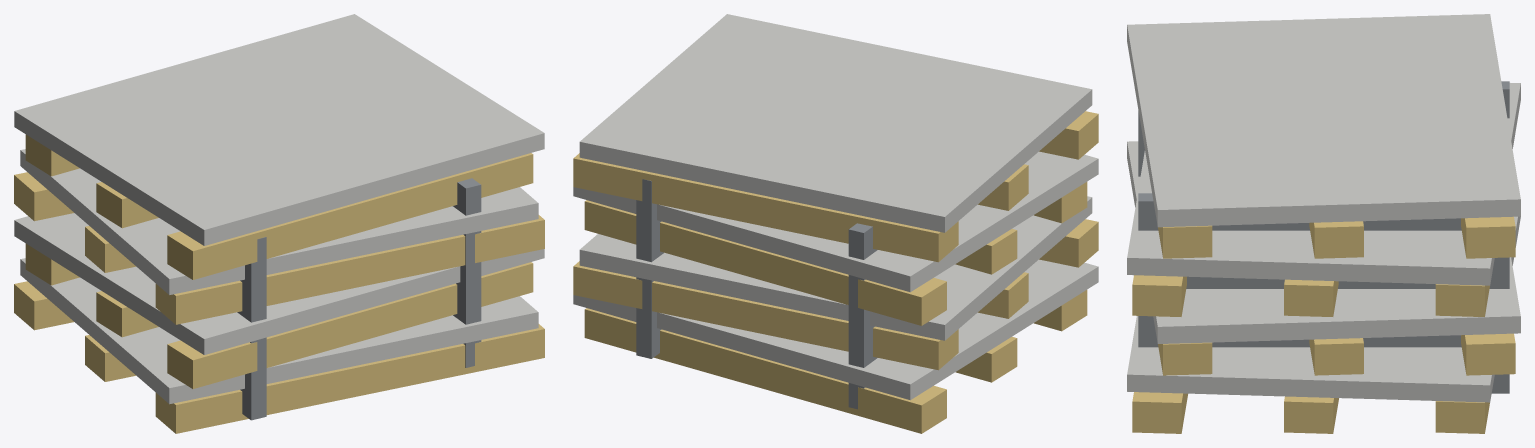
File: P_pallet_stack.fbx
3 renders of one model, left to right at view 1: azimuth 30°, elevation 25°; view 2: azimuth 150°, elevation 25°; view 3: azimuth 270°, elevation 25°, orthographic. The views are drawn at different scales.
Parts seen in each view (by area): view 1: P_pallet_stack; view 2: P_pallet_stack; view 3: P_pallet_stack.
Boxes of the visible parts, x1,y1,x2,y2 form: P_pallet_stack: (14, 14, 544, 433); P_pallet_stack: (573, 14, 1098, 433); P_pallet_stack: (1127, 14, 1520, 433).
Size of the model in its own units: 1.22 by 0.665 by 1.04.
